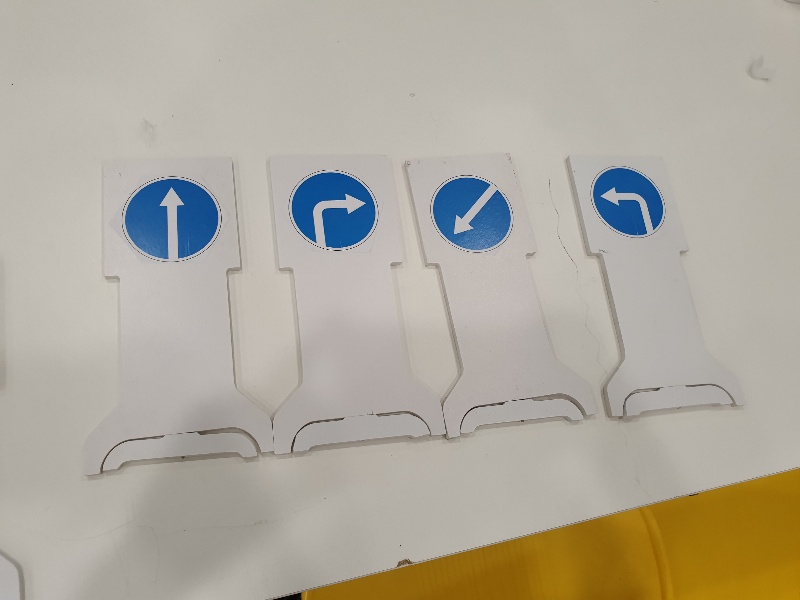Left: (589, 161, 671, 241)
Right: (285, 166, 385, 255)
forw: (116, 171, 225, 265)
prep: (425, 169, 519, 256)
